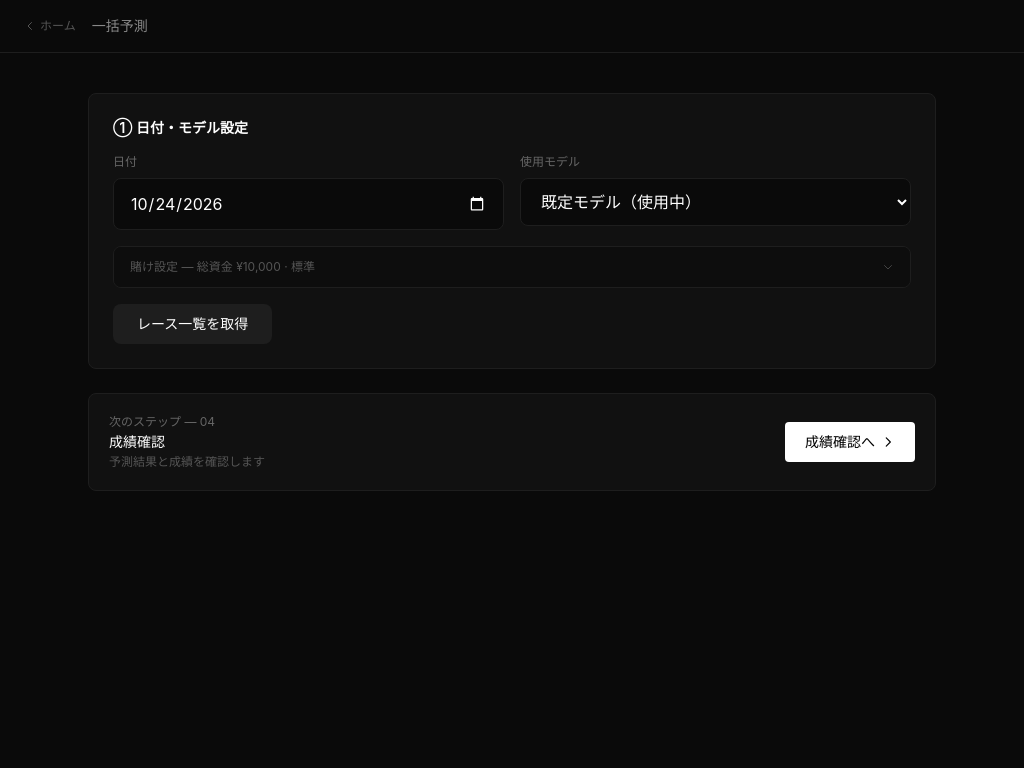
Test: prediction acquisition outcomes › does not claim success if the completed job still leaves no usable races
Click the button "レース一覧を取得" at (193, 324), box [113,304,272,344]
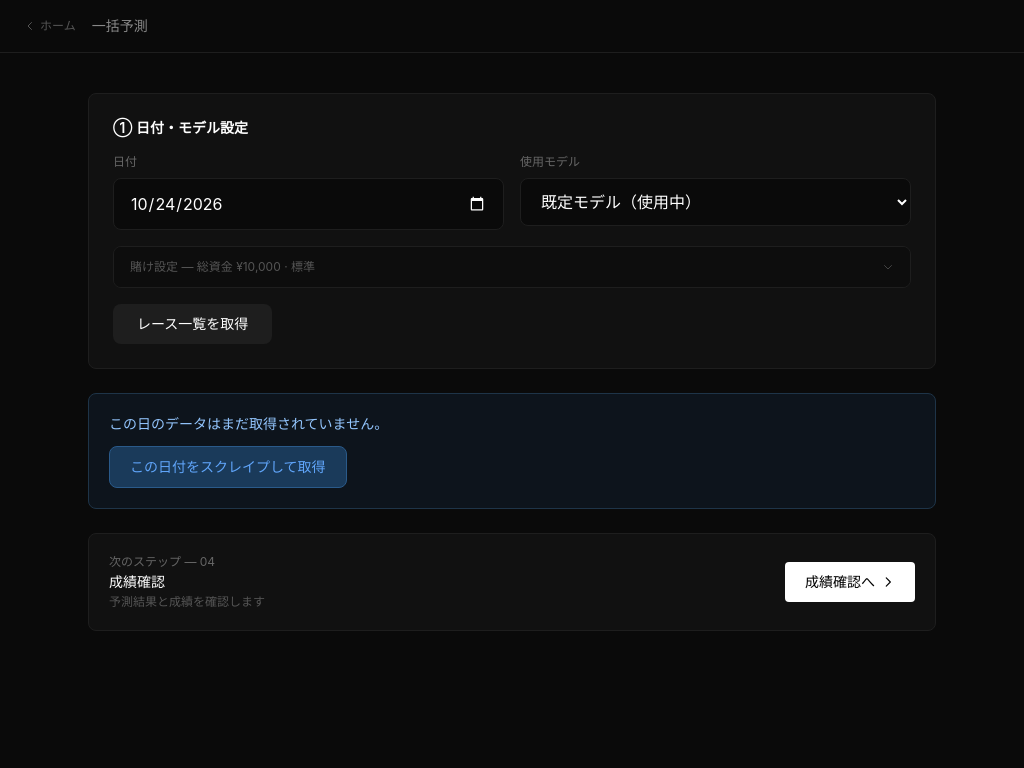
Click the button "この日付をスクレイプして取得" at (228, 467), box [109,446,347,488]
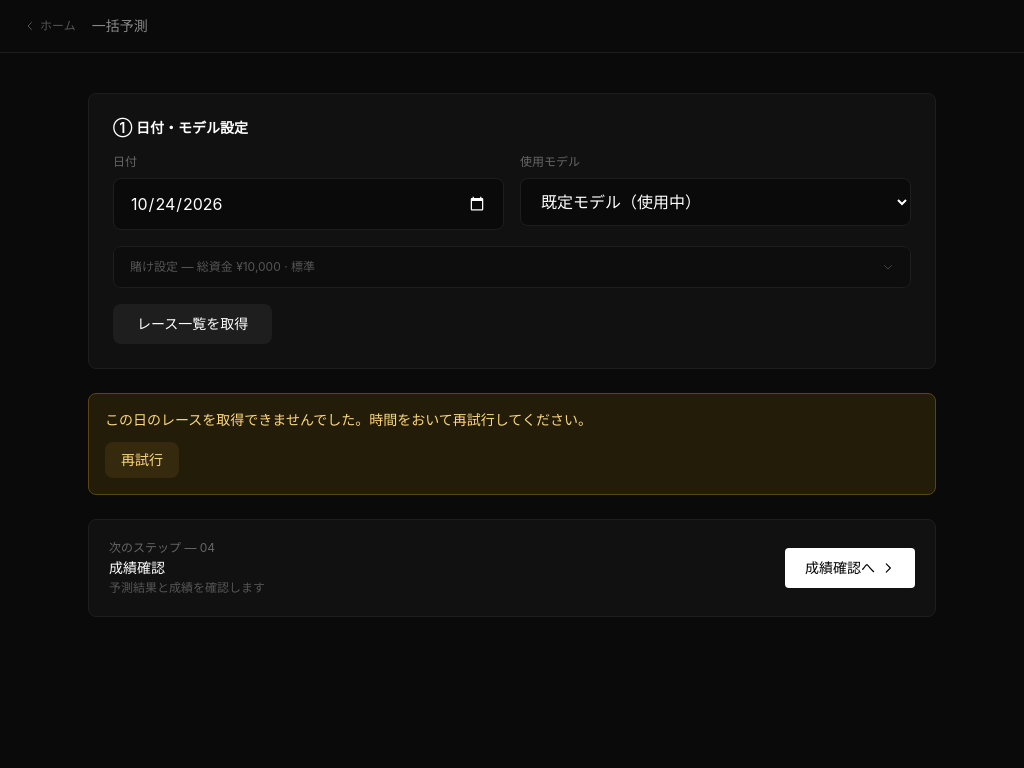
Now the message with test id "scrape-completion-outcome" shows "この日のレースを取得できませんでした。", box [105,411,592,428]
Now the button "再試行" is enabled, box [105,442,179,478]
